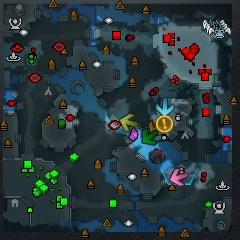Other: (156, 115, 174, 133)
x1: (170, 169, 188, 186)
x2: (120, 114, 138, 132)
x3: (156, 99, 174, 116)
x4: (142, 130, 157, 145)
x5: (149, 120, 162, 135)
